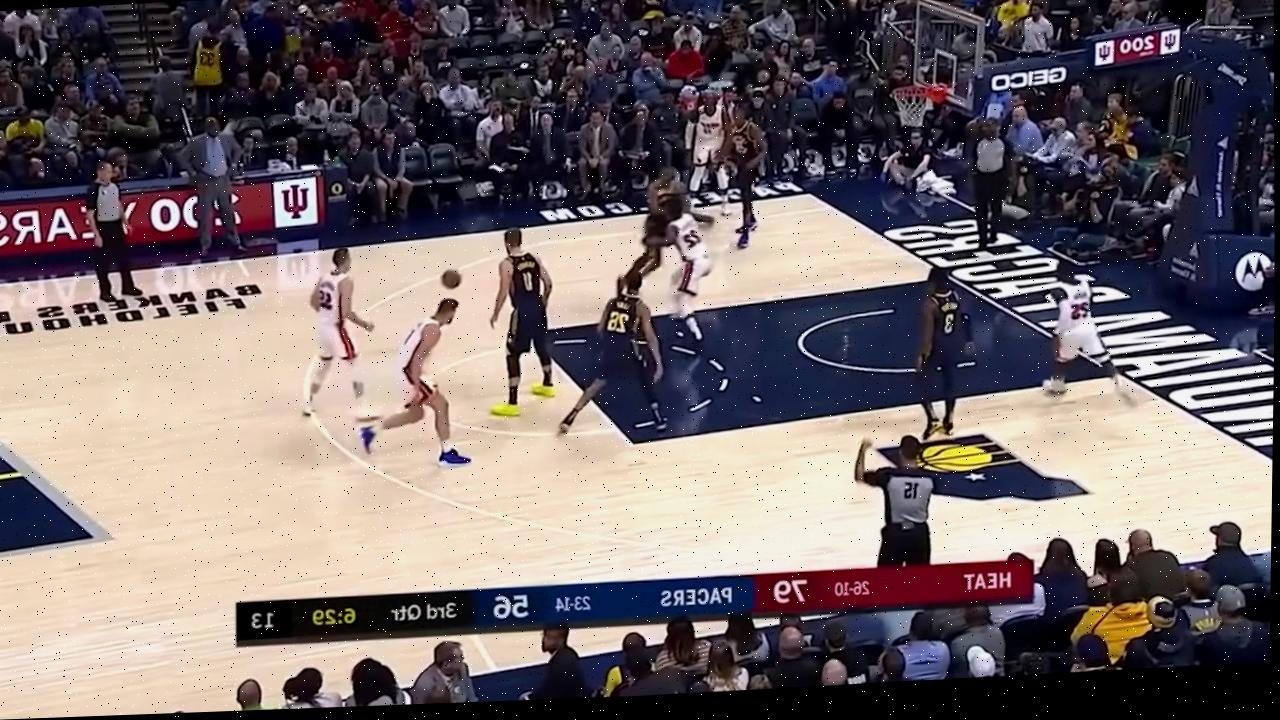foul: (595, 168, 740, 330)
